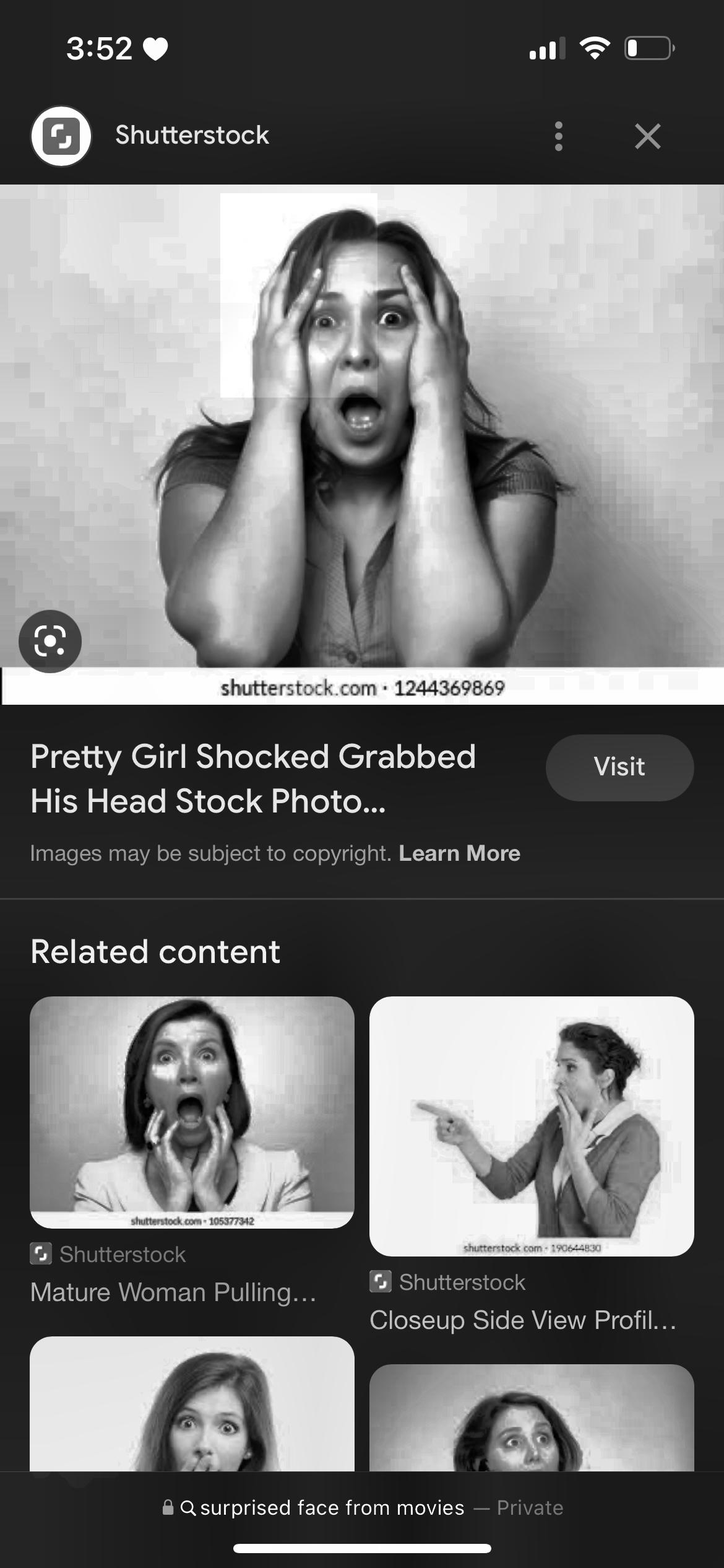surprised: (272, 239, 467, 492)
